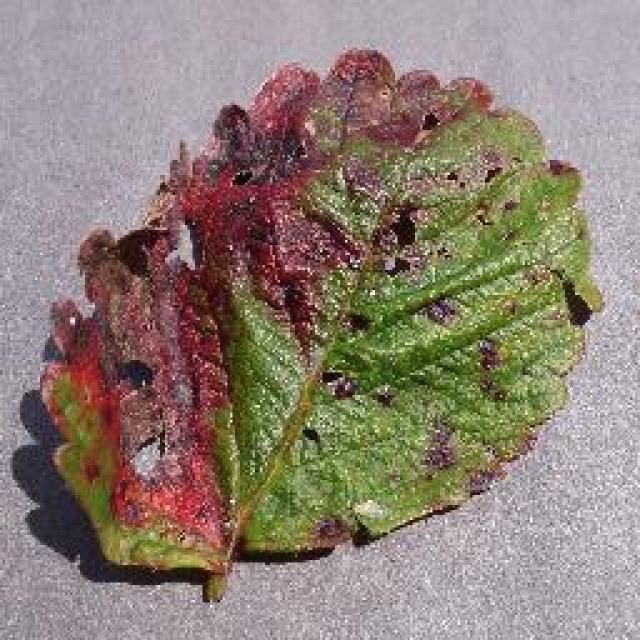Strawberry___Leaf_scorch: (30, 22, 612, 620)
